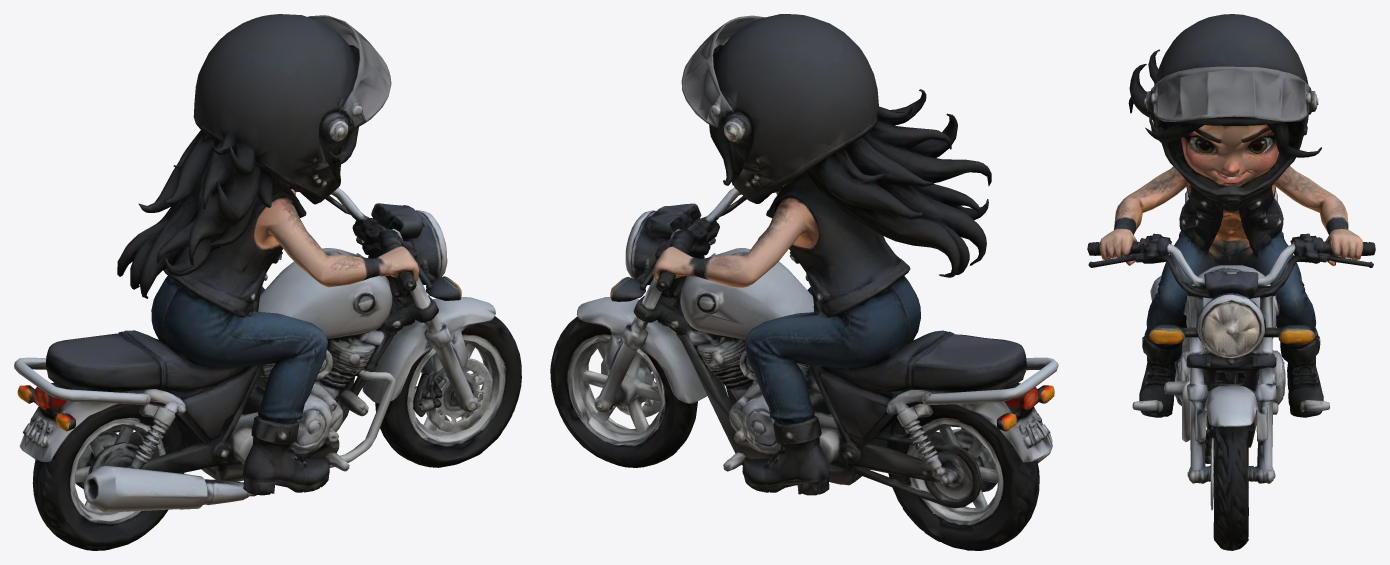
The model's file is kai.glb.
The picture shows the model from 3 angles, left to right: view 1: azimuth 30°, elevation 25°; view 2: azimuth 150°, elevation 25°; view 3: azimuth 270°, elevation 25°; orthographic projection. The views are drawn at different scales.
Bounding box in the file's own units: 0.9797 × 0.917 × 0.5376.
Materials: 1 (1 with a texture image).
